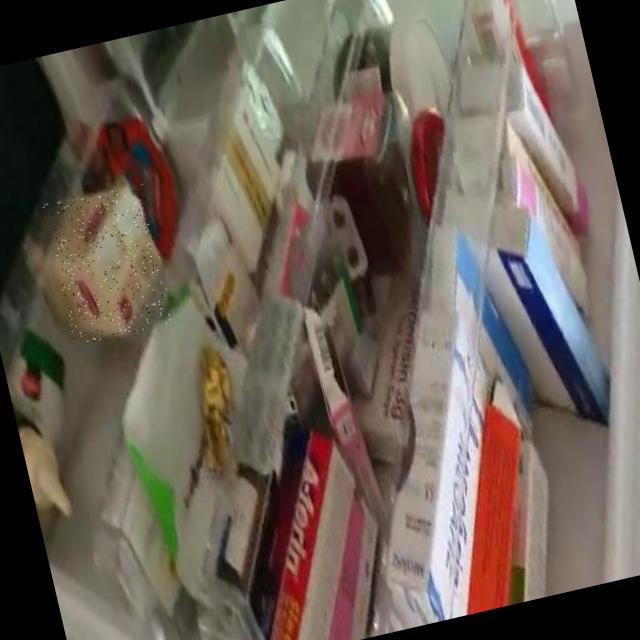Huevos: (41, 181, 174, 348)
